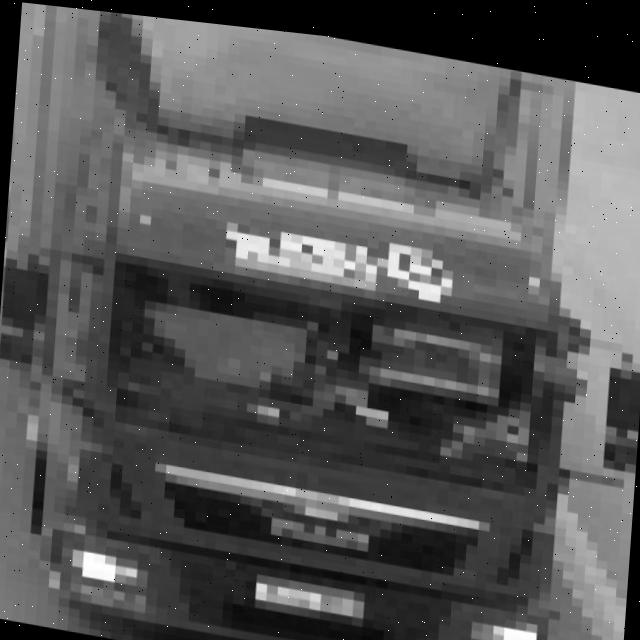truck: (1, 1, 634, 640)
